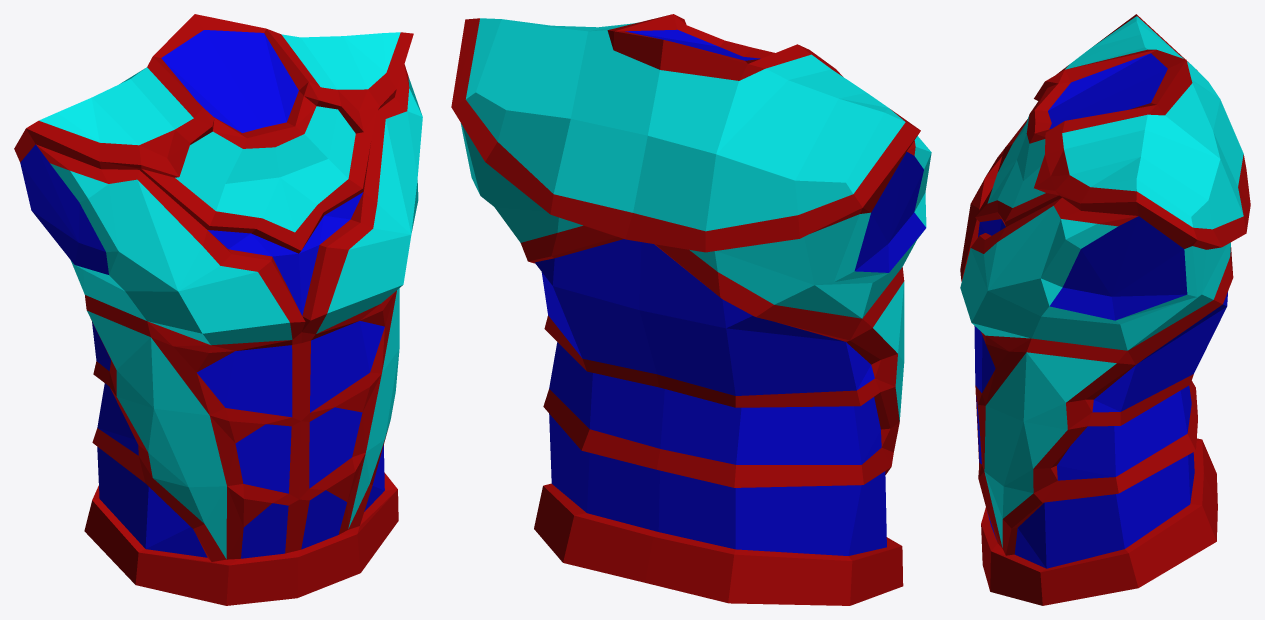
Rendered from Chr_Torso_Male_Static_16.fbx.
The picture shows the model from 3 angles, left to right: view 1: azimuth 30°, elevation 25°; view 2: azimuth 150°, elevation 25°; view 3: azimuth 270°, elevation 25°; orthographic projection. The views are drawn at different scales.
Parts seen in each view (by area): view 1: Chr_Torso_Male_16; view 2: Chr_Torso_Male_16; view 3: Chr_Torso_Male_16.
Boxes of the visible parts, x1,y1,x2,y2 form: Chr_Torso_Male_16: (14,14,422,605); Chr_Torso_Male_16: (451,14,931,605); Chr_Torso_Male_16: (960,14,1250,605).
Bounding box in the file's own units: 52.4 × 65.71 × 34.23.
